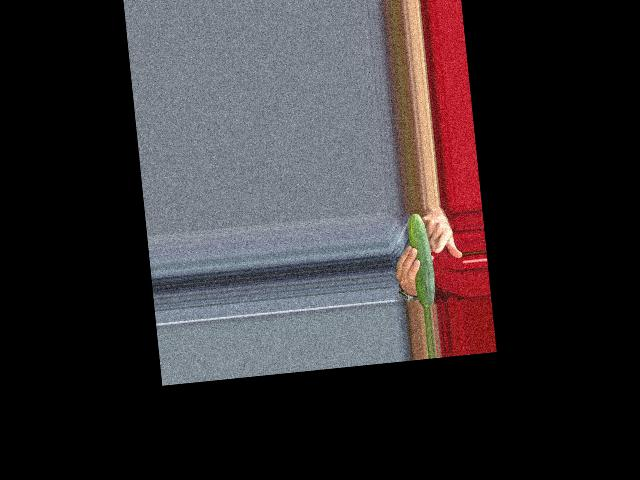cucumber: (405, 212, 437, 307)
